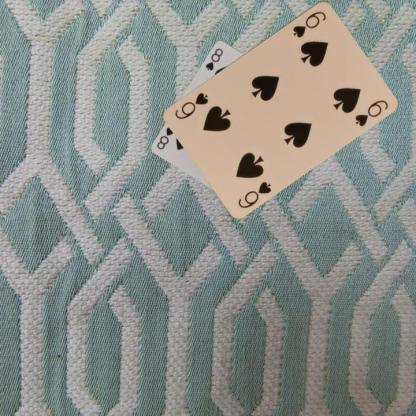6s: (290, 8, 328, 39), (235, 178, 273, 209)
8s: (203, 46, 224, 72)
